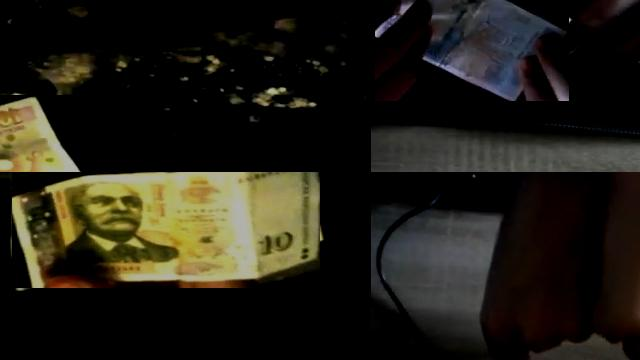10leva: (12, 172, 320, 288), (0, 95, 132, 172)
20leva: (424, 0, 569, 101)
